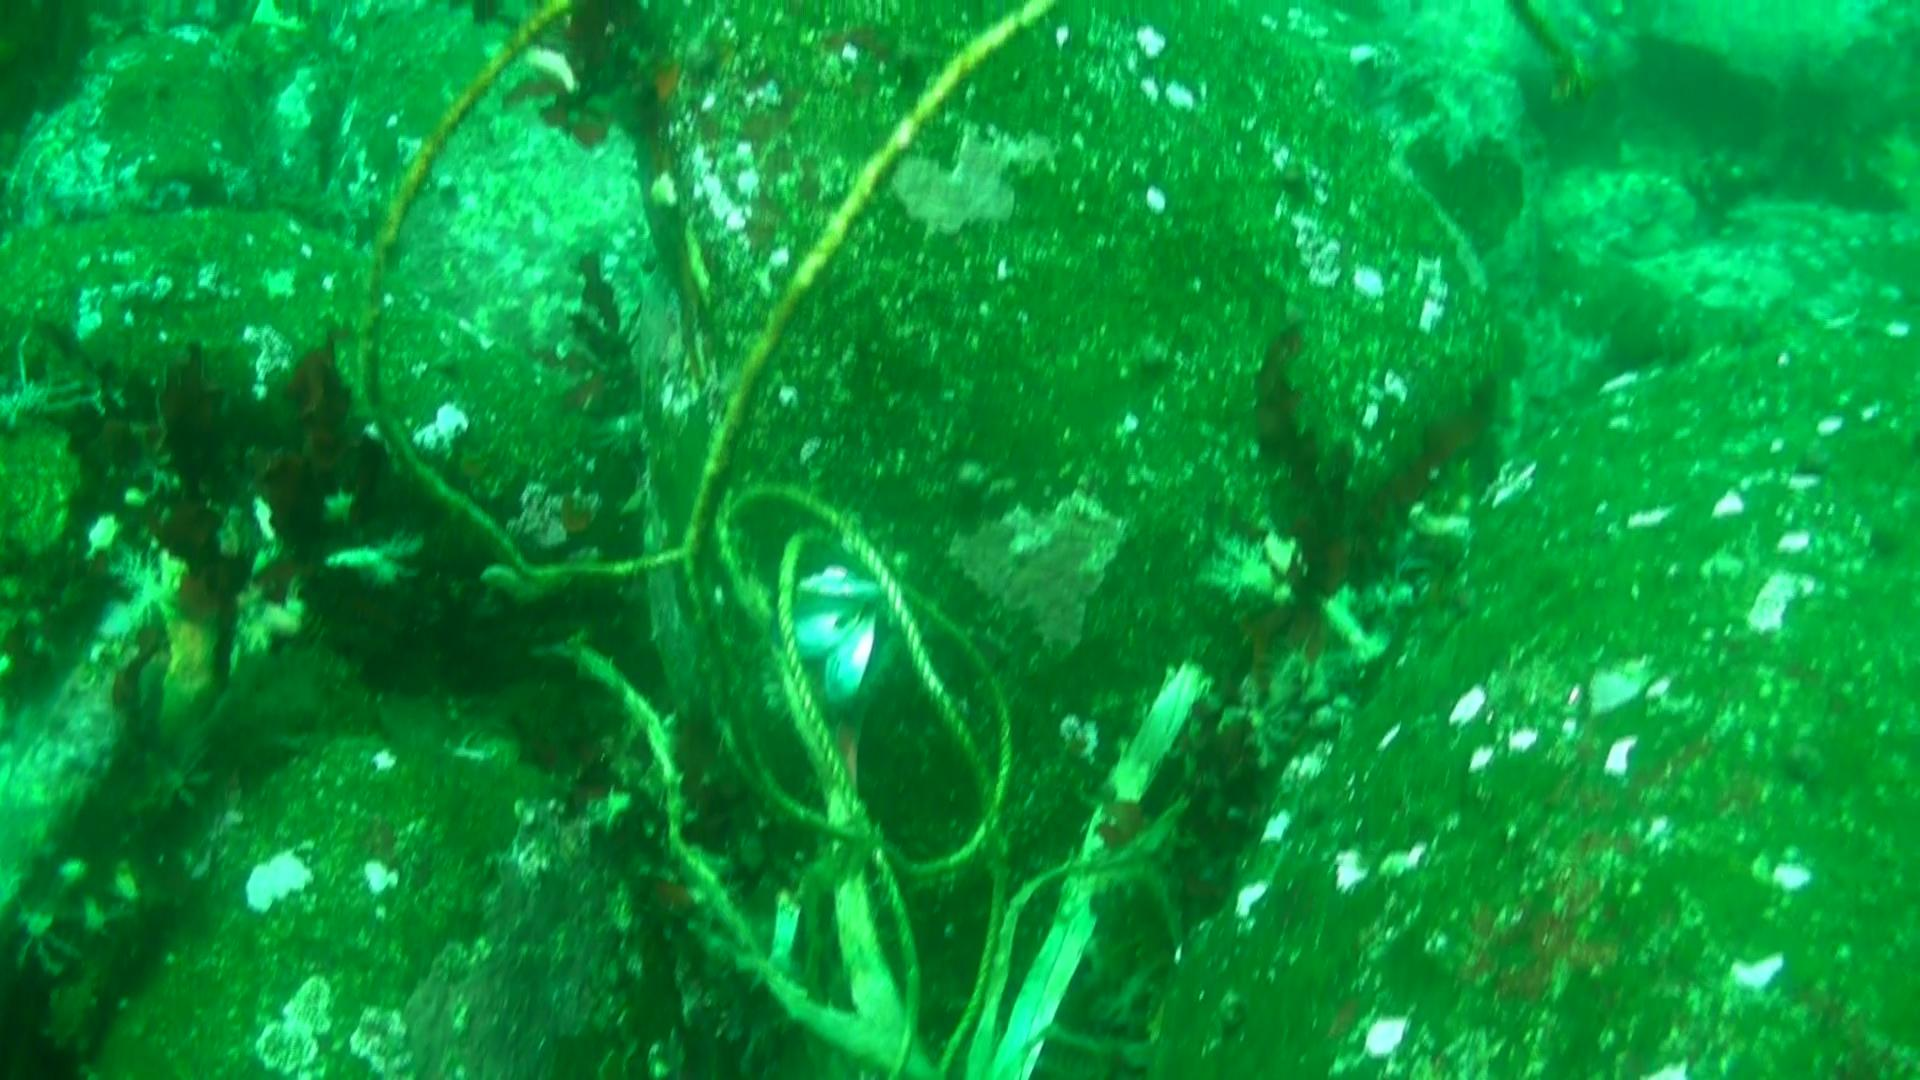bundle of ropes: (357, 0, 1193, 1080)
